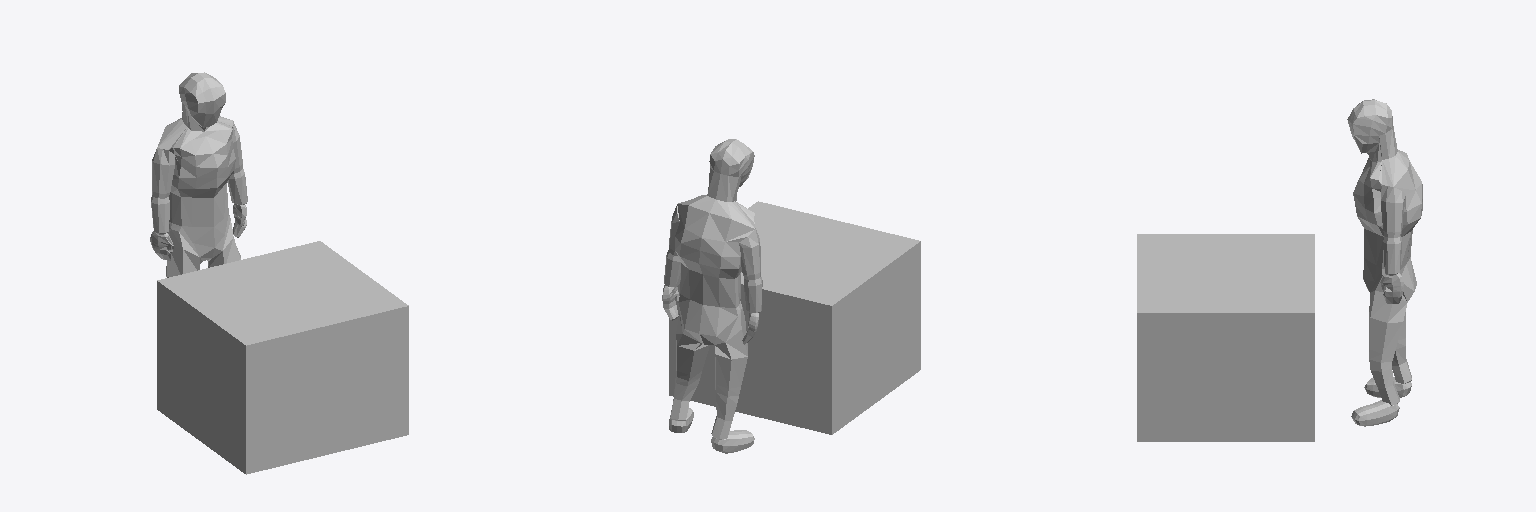
Rendered from washbasin.mtl.obj.
The picture shows the model from 3 angles: view 1: azimuth 30°, elevation 25°; view 2: azimuth 150°, elevation 25°; view 3: azimuth 270°, elevation 25°; orthographic projection.
Visible parts, largest first — view 1: Cube, Cube.001; view 2: Cube, Cube.001; view 3: Cube, Cube.001.
Part boxes in pixels (left/top/right/bottom): Cube: left=157, top=241, right=408, bottom=474; Cube.001: left=150, top=72, right=247, bottom=277; Cube: left=669, top=201, right=920, bottom=434; Cube.001: left=662, top=139, right=762, bottom=453; Cube: left=1137, top=234, right=1314, bottom=441; Cube.001: left=1347, top=99, right=1422, bottom=426.
Size of the model in its own units: 1.06 by 1.88 by 1.62.